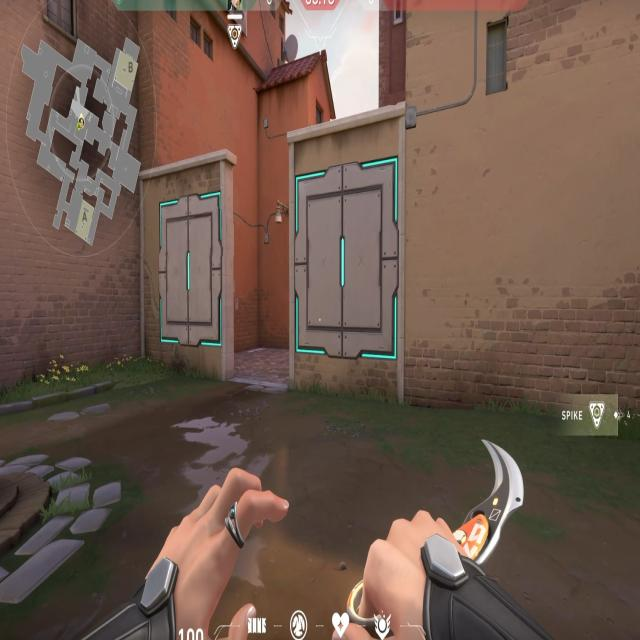Mid_Wall: (286, 152, 401, 372), (147, 170, 240, 356)
